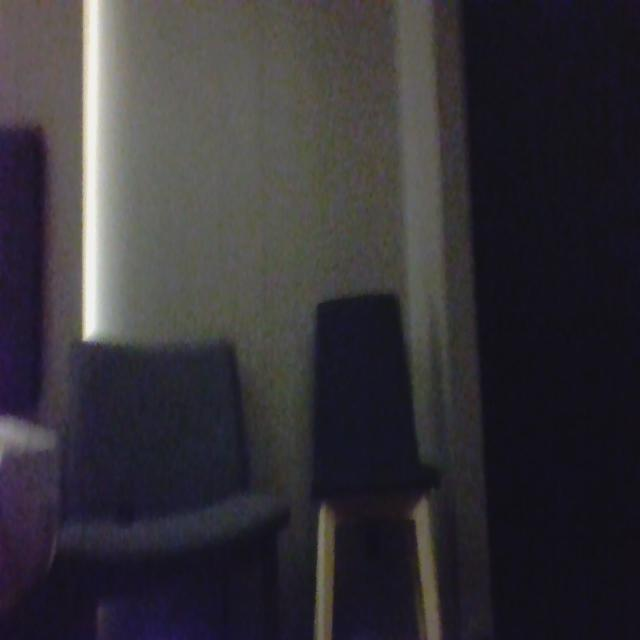empty: (64, 347, 250, 540), (310, 306, 429, 504)
